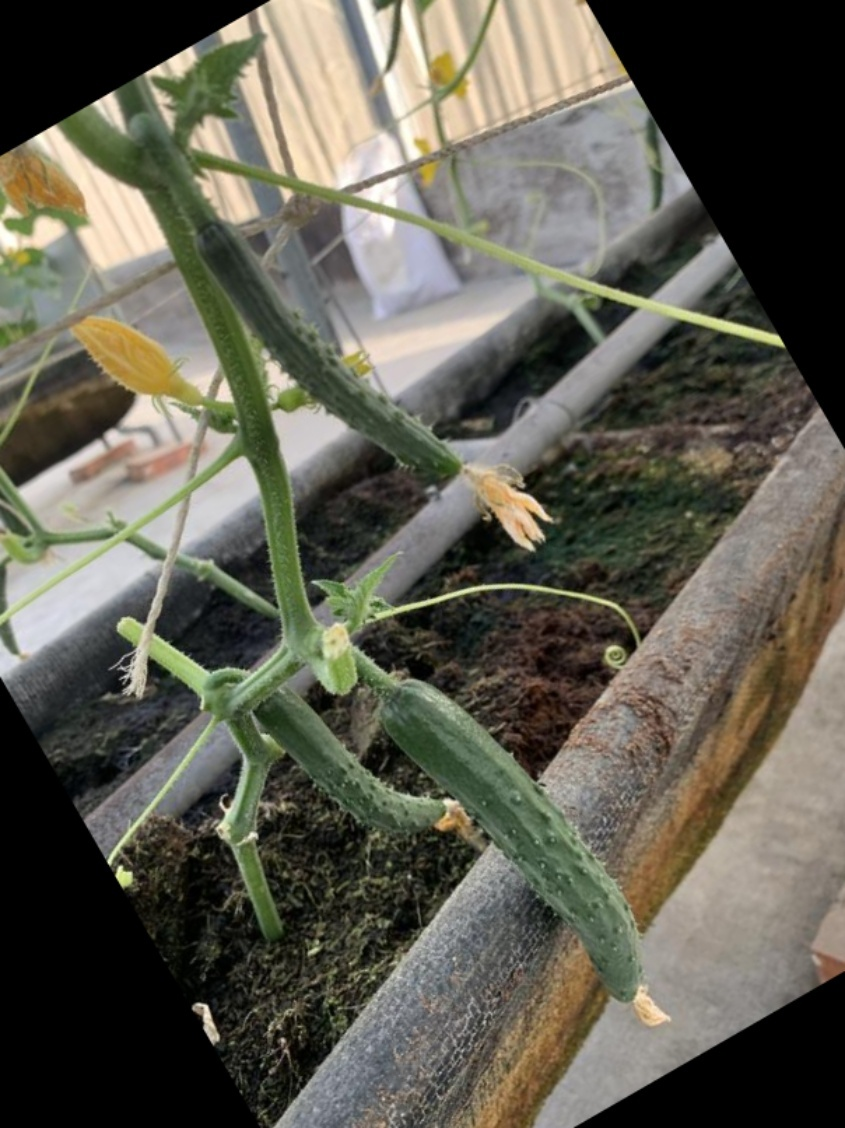growth: (257, 675, 455, 834)
